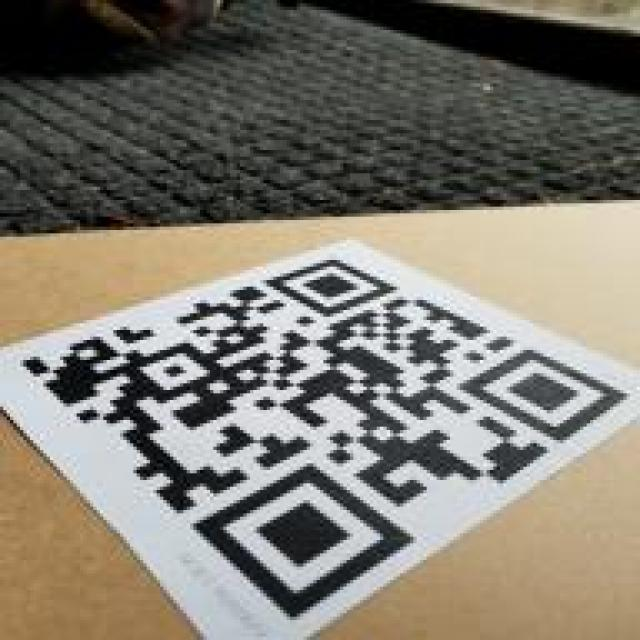qr_code: (21, 261, 629, 618)
